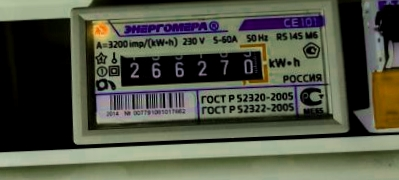0: (241, 56, 254, 74)
2: (126, 59, 140, 78), (195, 58, 207, 76)
6: (172, 59, 185, 78), (149, 60, 162, 78)
7: (218, 57, 230, 75)
screen: (108, 39, 273, 95)
